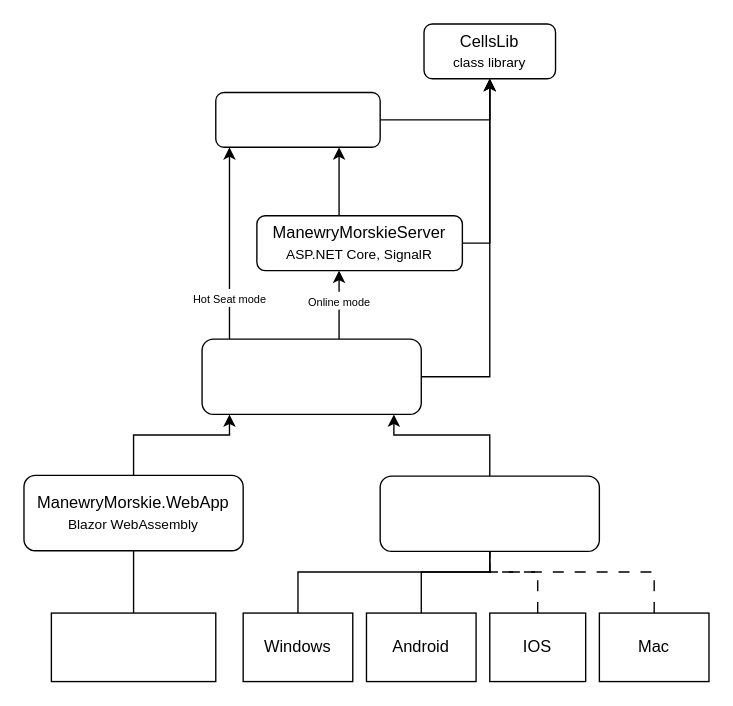
Image size: 733x706. Some labels were removed from this diagram. Each missing label, with the box of its shape:
Browsers, PWA: (50, 612, 216, 682)
ManewryMorskie class library: (214, 91, 380, 147)
ManewryMorskie.GUI Razor class library: (201, 338, 421, 414)
ManewryMorskie.MAUI MAUI Blazor Hybrid: (379, 475, 599, 551)
